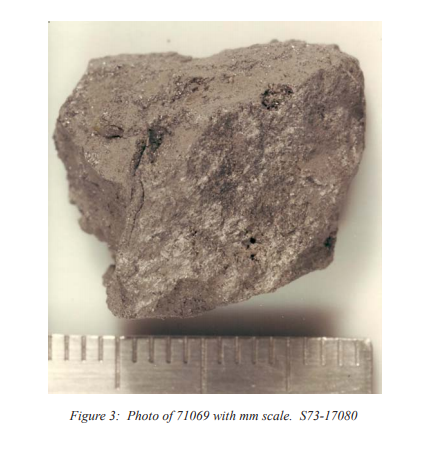Basalt: (74, 41, 386, 319)
